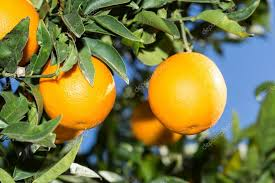orange: (144, 49, 230, 136), (39, 51, 117, 129), (1, 1, 40, 64)
